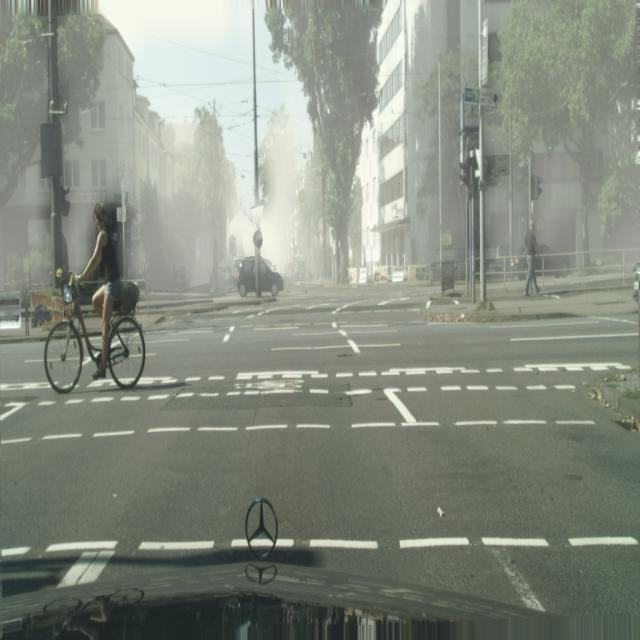car: (44, 197, 146, 394)
person: (523, 219, 541, 297)
truck: (236, 256, 285, 298), (173, 262, 190, 291)
